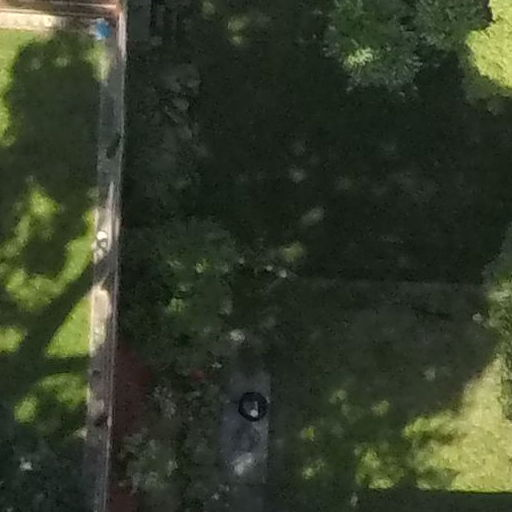fence: (79, 1, 138, 512)
table: (235, 384, 276, 426)
